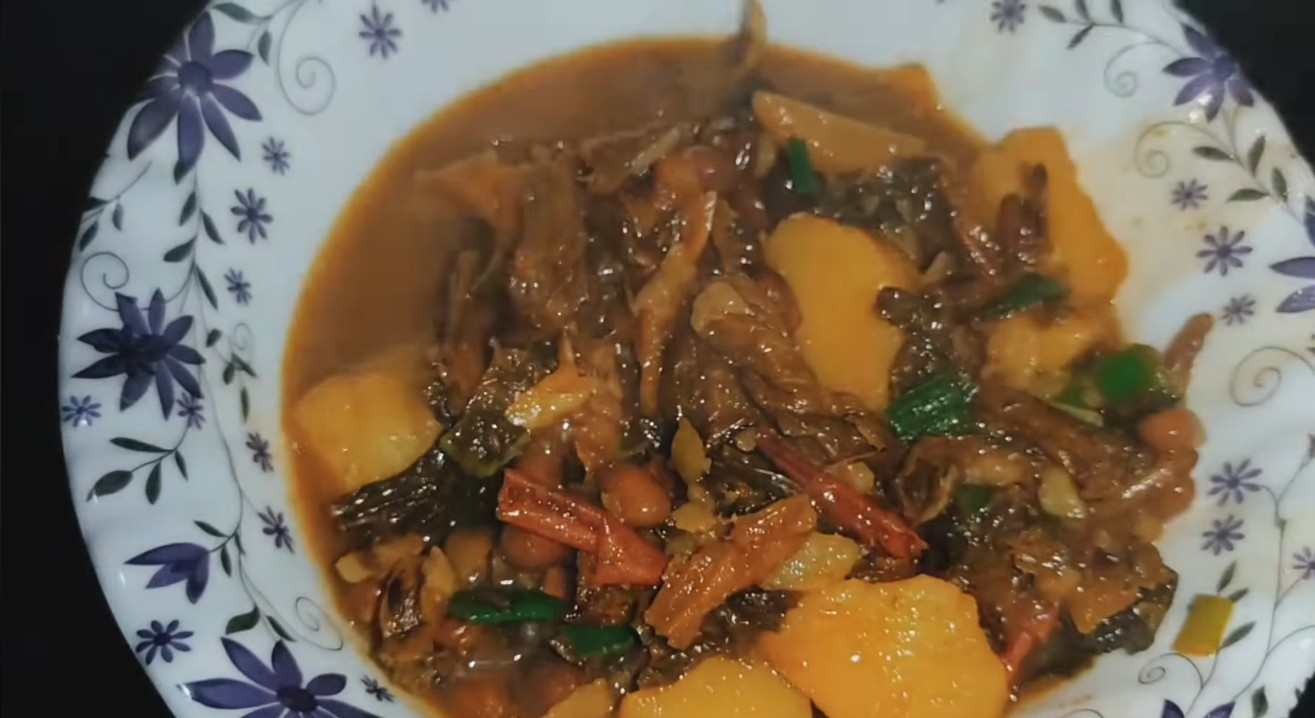gundruk: (343, 78, 1172, 698)
